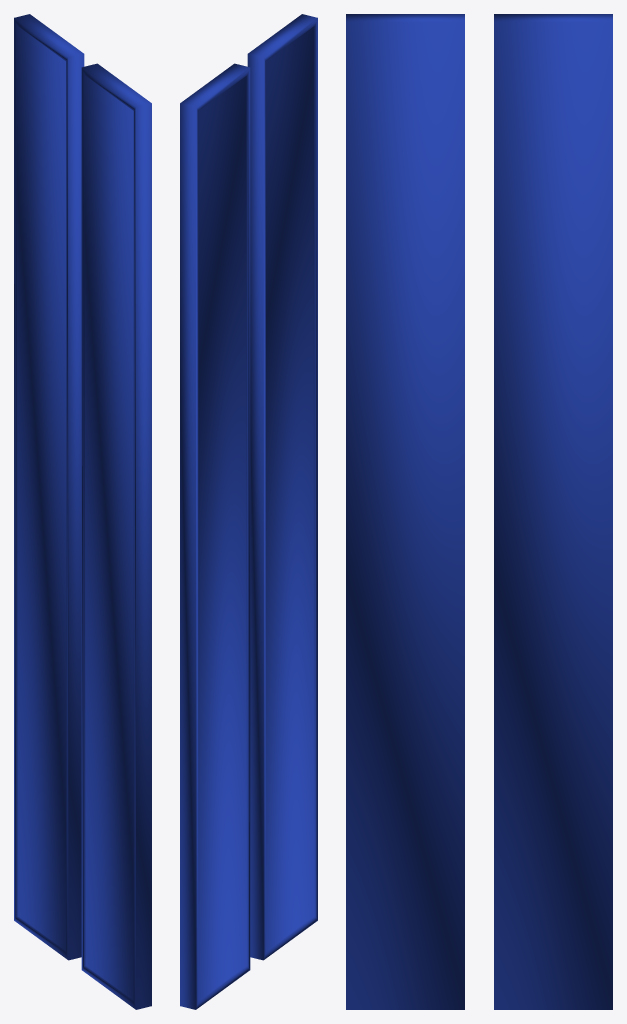
The model's file is isspanel.obj.
3 renders of one model, left to right at view 1: azimuth 30°, elevation 25°; view 2: azimuth 150°, elevation 25°; view 3: azimuth 270°, elevation 25°, orthographic. The views are drawn at different scales.
Bounding box in the file's own units: 0.253 × 13.86 × 3.39.
